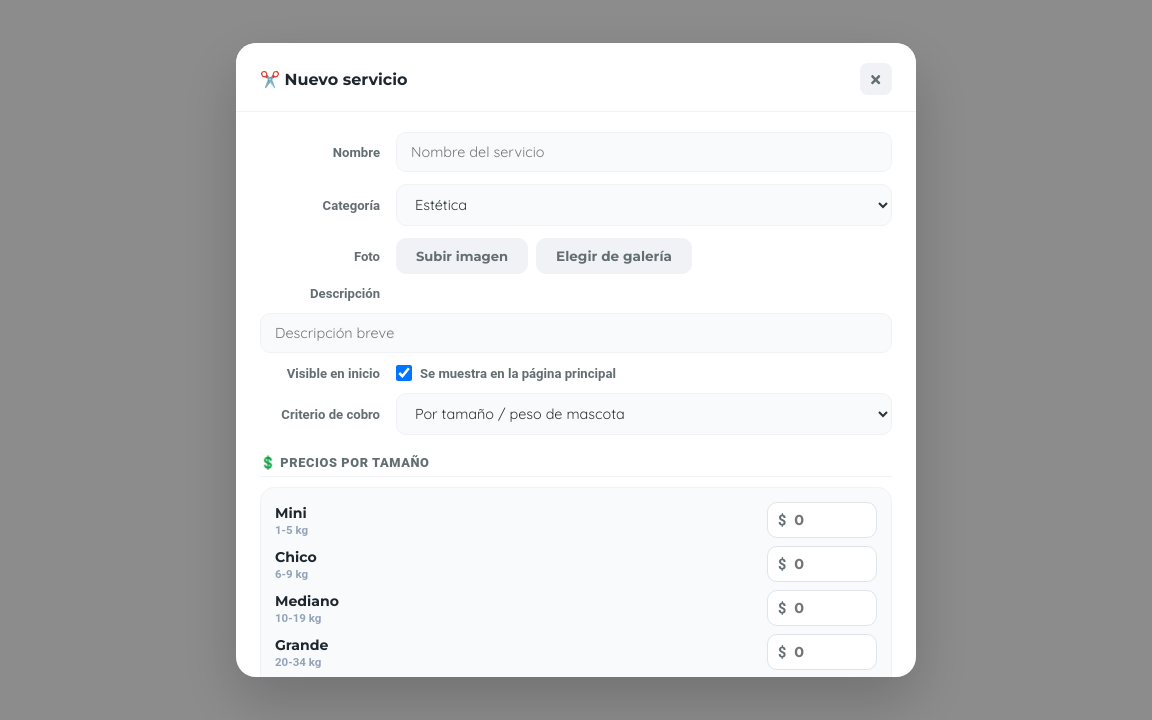
Scenario: ServiceFormModal (admin) › cambiar el selector "Criterio de cobro" a "custom" oculta la tabla por tamaño y muestra opciones personalizadas
Select "Personalizado (ej. tipo de trabajo)" in the 2nd dropdown showing "Por tamaño / peso de mascota" at (644, 414), box [396, 393, 892, 435]
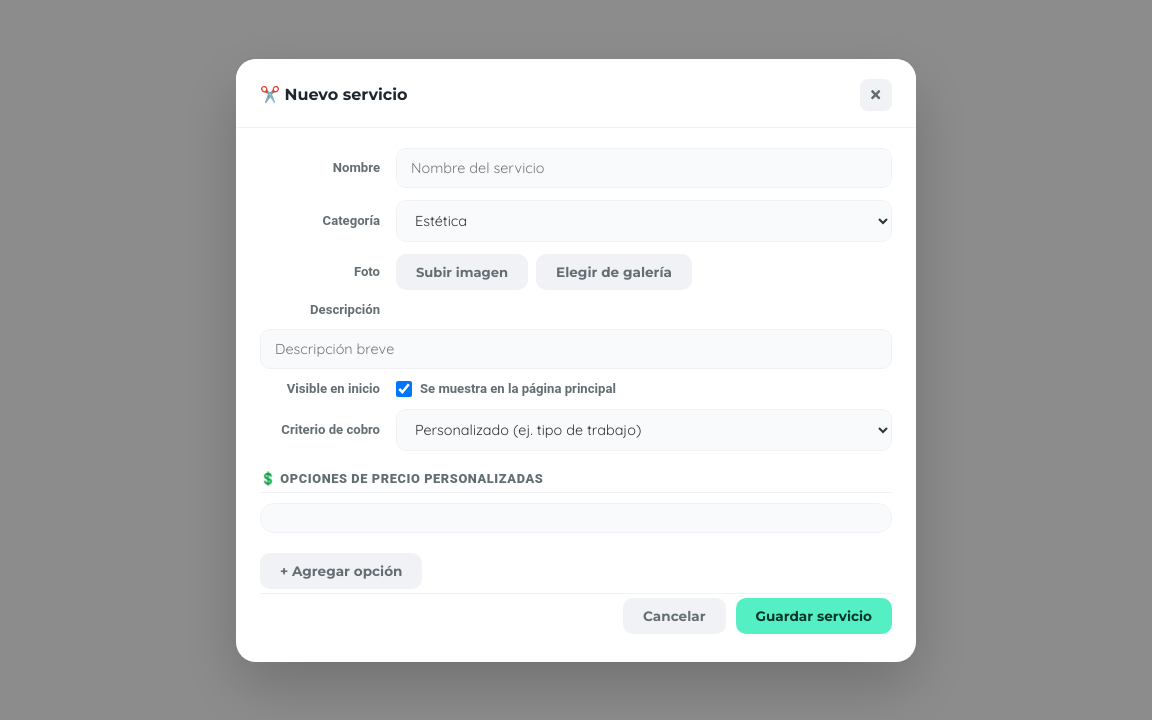
Expected: the text "💲 Precios por tamaño" is gone
Expected: the text "💲 Opciones de precio personalizadas" is shown, [260, 470, 892, 492]
Expected: the button "+ Agregar opción" is shown, [260, 552, 422, 588]
